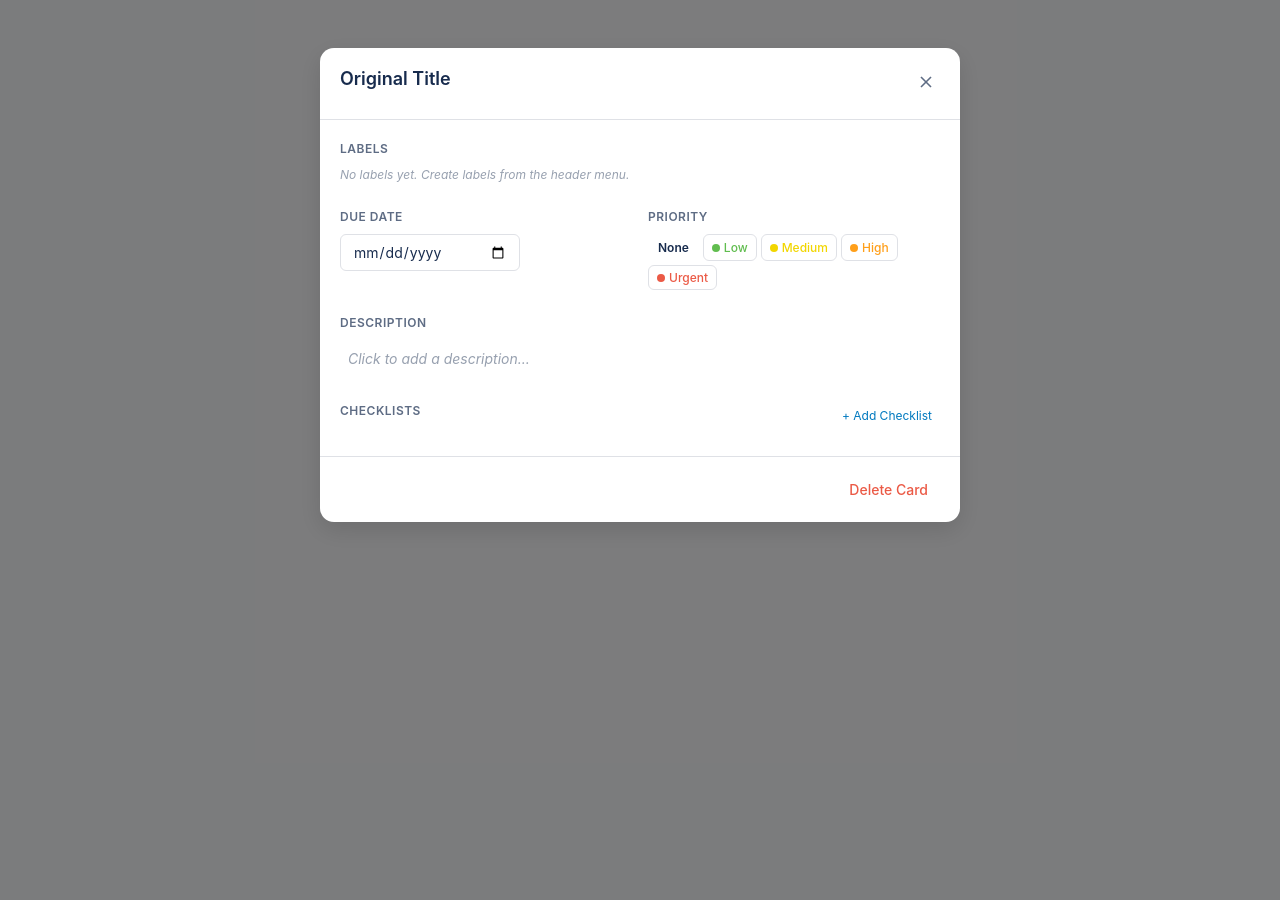
CardDetail › should cancel title edit on Escape
This screenshot has width=1280, height=900.
Double-click the heading "Original Title" at (395, 78), box [340,68,451,89]
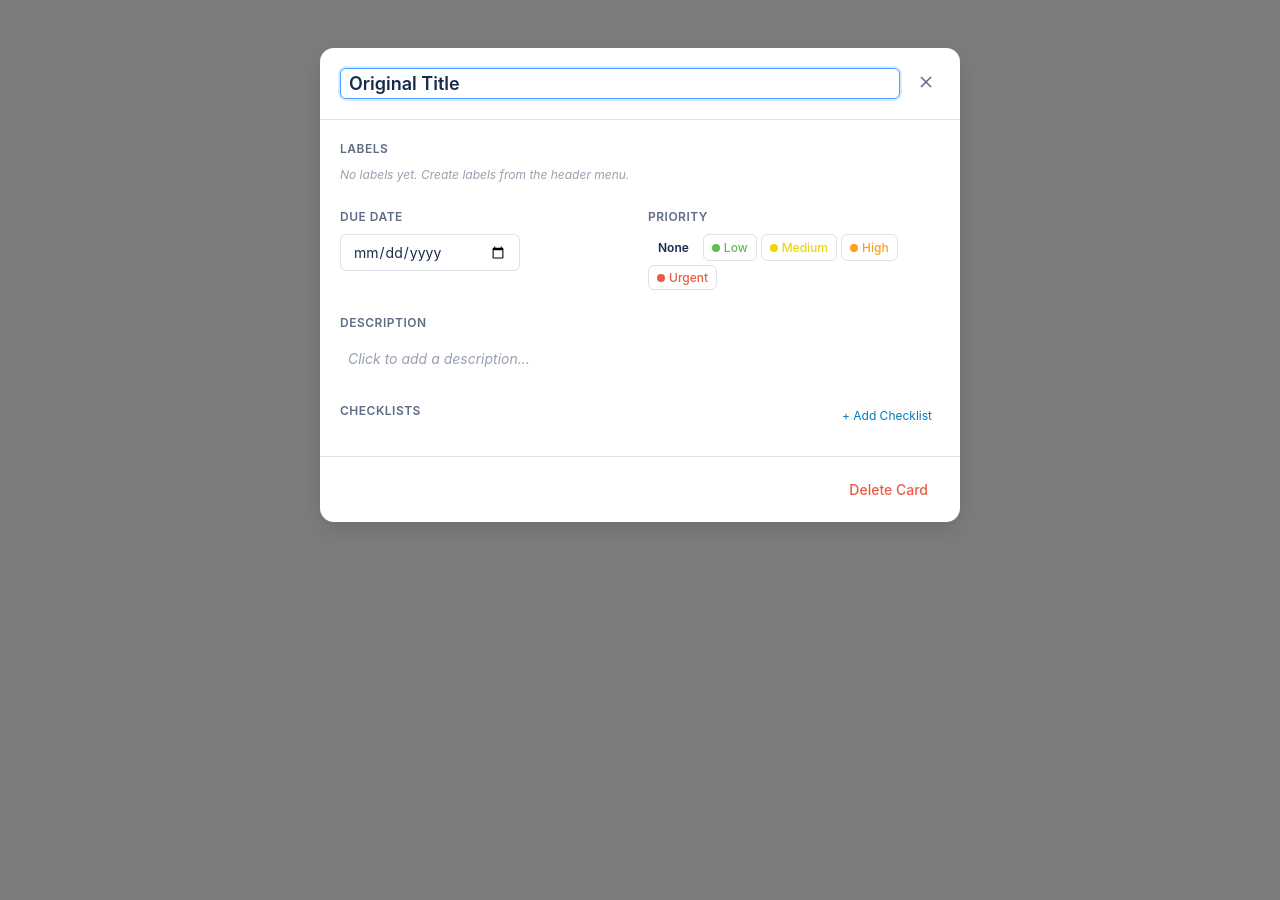
Replace the text in the field showing "Original Title" with "New Title" at (620, 84), box [340,68,900,99]
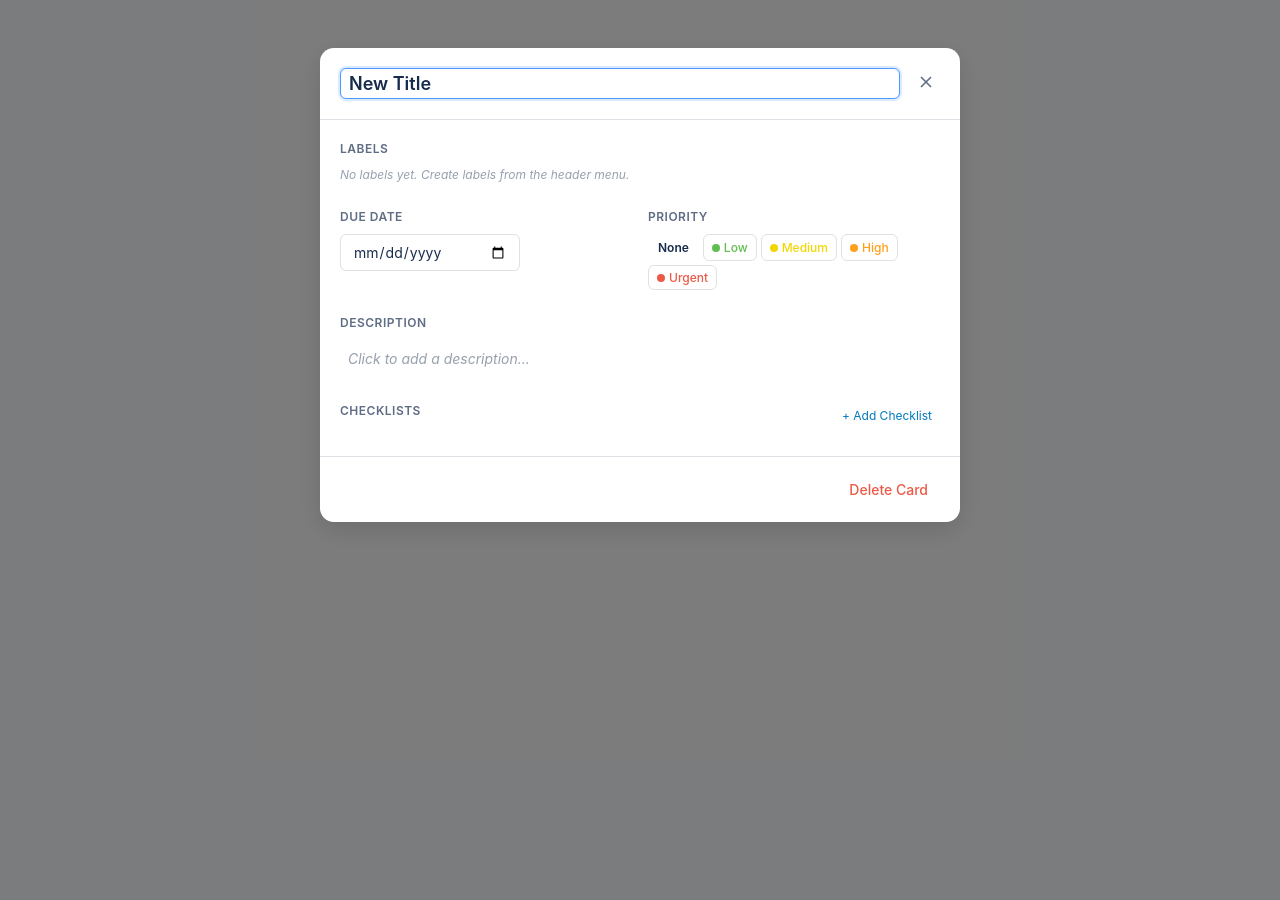
Press Escape
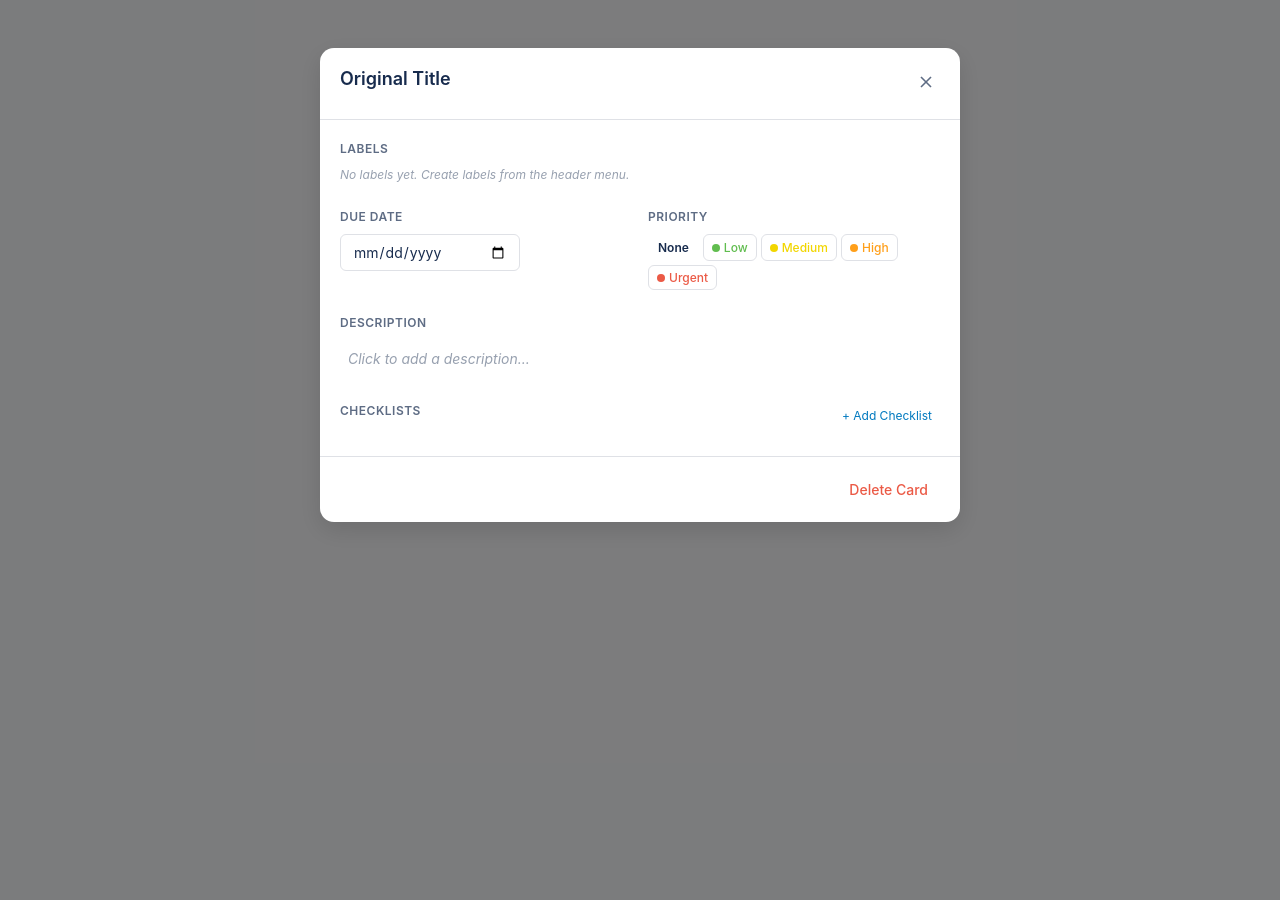
Result: the heading "Original Title" is shown at [340,68,451,89]
